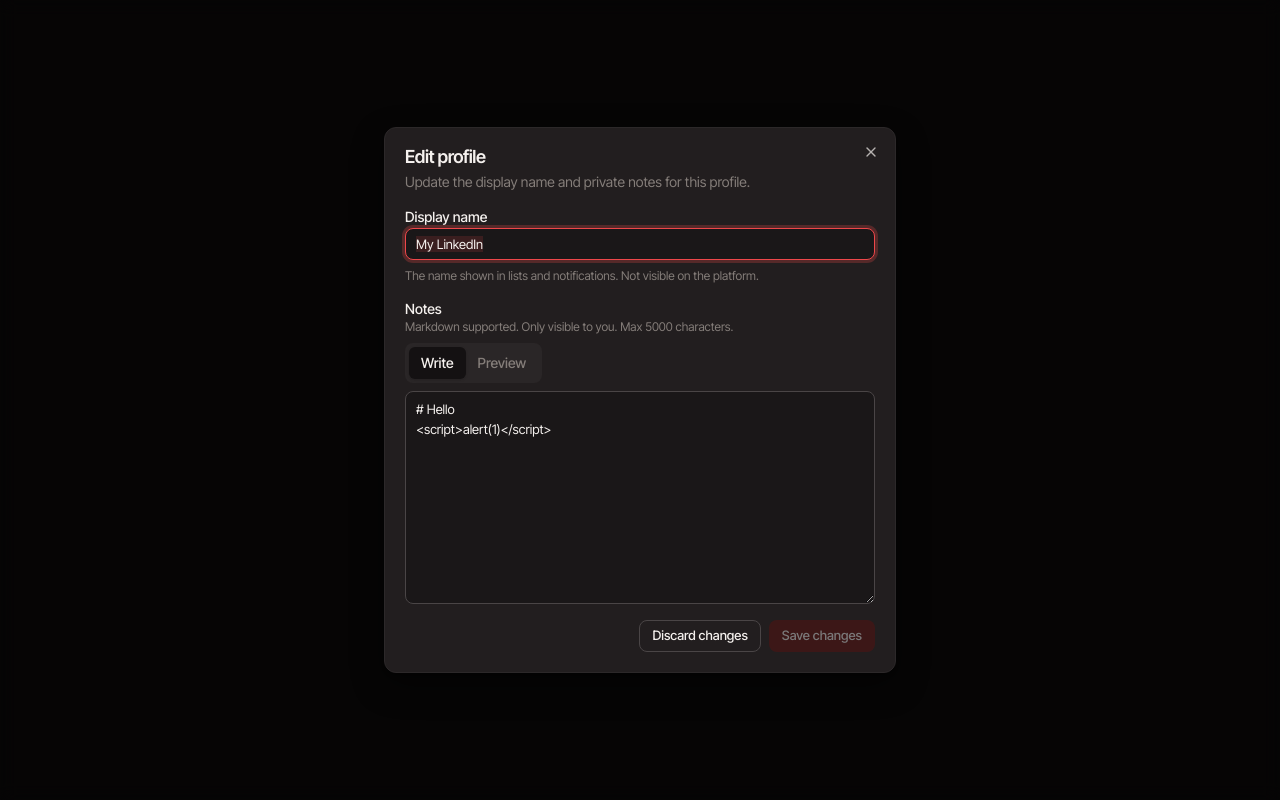
EditProfileDialog › sanitizes <script> out of the Markdown preview
Expected: the text box showing "Hello" is shown, [405,391,875,604]
# Click the Preview tab.
Step 1. Click the tab "Preview" → [502, 363], box [466,347,538,379]
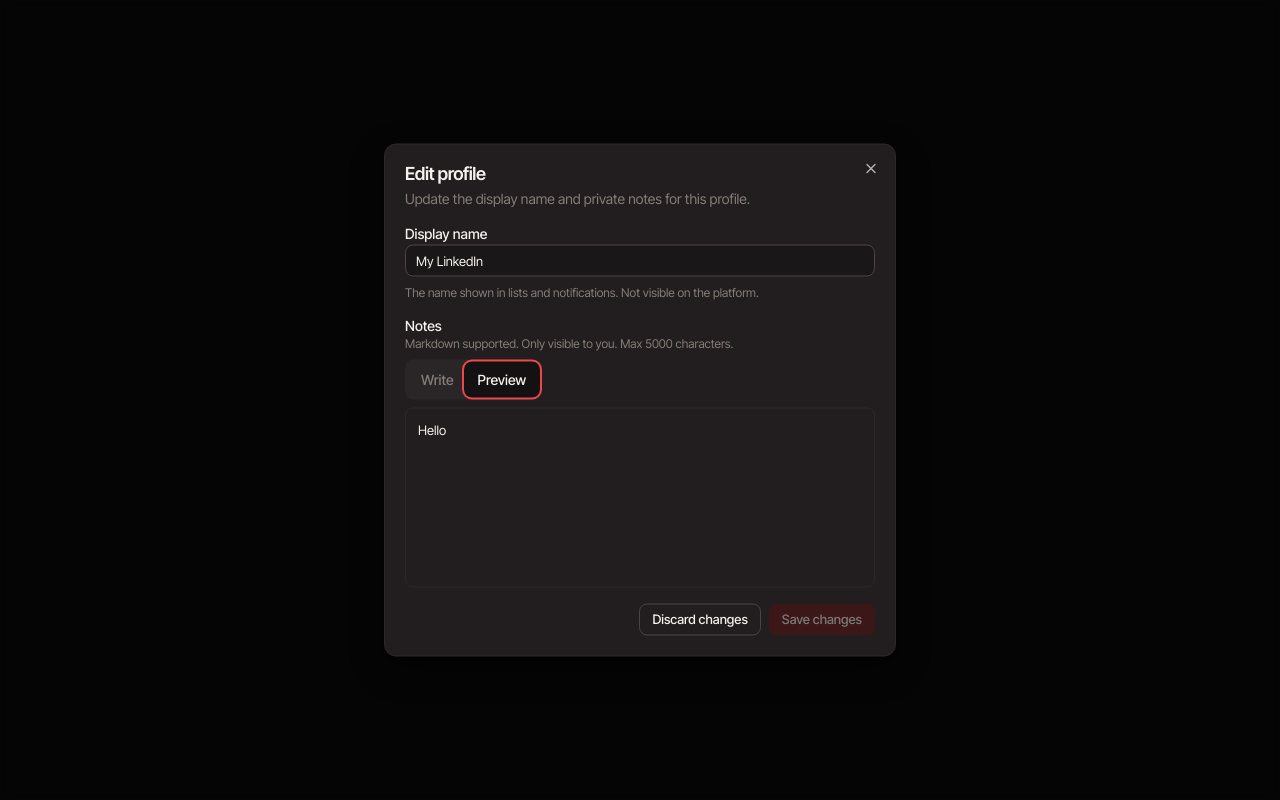
Result: the heading "Hello" is shown at [418,422,446,438]
